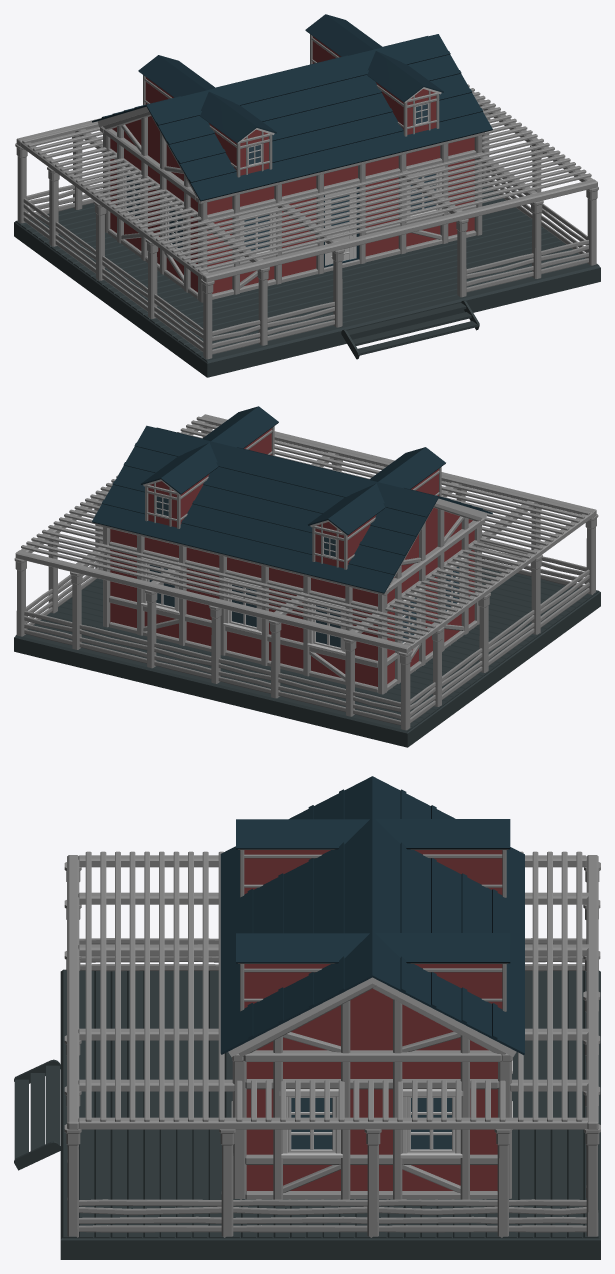
The model's file is house_08.glb.
The picture shows the model from 3 angles, top to bottom: view 1: azimuth 30°, elevation 25°; view 2: azimuth 150°, elevation 25°; view 3: azimuth 270°, elevation 25°; orthographic projection. The views are drawn at different scales.
Parts seen in each view (by area): view 1: house_08; view 2: house_08; view 3: house_08.
Part boxes in pixels (x1=…): house_08: x1=14, y1=14, x2=600, y2=377; house_08: x1=14, y1=406, x2=600, y2=747; house_08: x1=14, y1=776, x2=600, y2=1259.
Bounding box in the file's own units: 14.35 × 6.34 × 13.24.
1 material, 1 textured.
